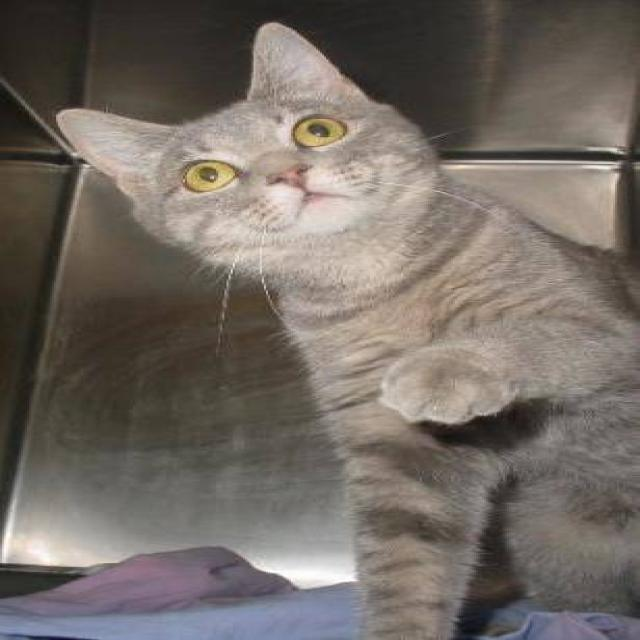cat: (52, 21, 638, 638)
